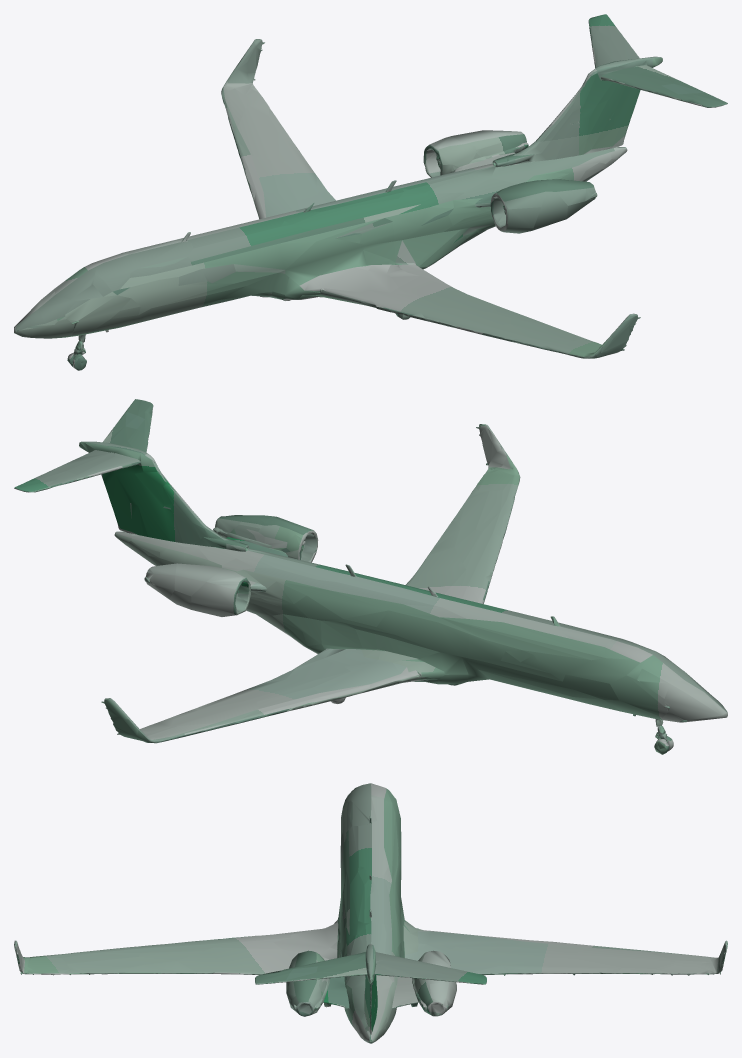
Rendered from gbjet2.glb.
3 views of the same model, one above another, from view 1: azimuth 30°, elevation 25°; view 2: azimuth 150°, elevation 25°; view 3: azimuth 270°, elevation 25° (orthographic). The views are drawn at different scales.
Parts seen in each view (by area): view 1: LO; view 2: LO; view 3: LO.
Part boxes in pixels (box(x1,y1,x2,y2)): LO: box(14, 14, 727, 370); LO: box(14, 399, 727, 754); LO: box(14, 783, 727, 1043).
Size of the model in its own units: 30.4 by 7.78 by 30.38.
1 material, 1 textured.
